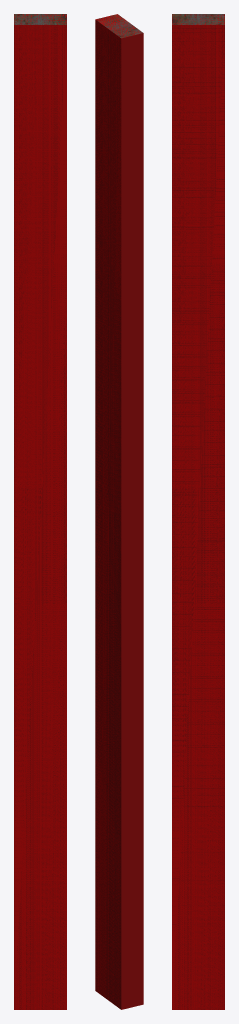
Rendered from SciFi_support_beam_wall.DAE.
3 views of the same model, side by side, from view 1: azimuth 90°, elevation 25°; view 2: azimuth 210°, elevation 25°; view 3: azimuth 270°, elevation 25° (orthographic).
Visible parts, largest first — view 1: colbox-01, bounds, wall_support_beam; view 2: bounds, colbox-01, wall_support_beam; view 3: colbox-01, bounds, wall_support_beam.
Boxes of the visible parts, left/top/right/bottom form: colbox-01: left=14, top=14, right=66, bottom=1009; bounds: left=14, top=14, right=66, bottom=1009; wall_support_beam: left=14, top=14, right=66, bottom=24; bounds: left=95, top=15, right=143, bottom=1009; colbox-01: left=95, top=14, right=141, bottom=1008; wall_support_beam: left=97, top=14, right=142, bottom=37; colbox-01: left=172, top=14, right=224, bottom=1009; bounds: left=172, top=14, right=224, bottom=1009; wall_support_beam: left=172, top=14, right=224, bottom=24.
Bounding box in the file's own units: 24 × 48.72 × 1000.
